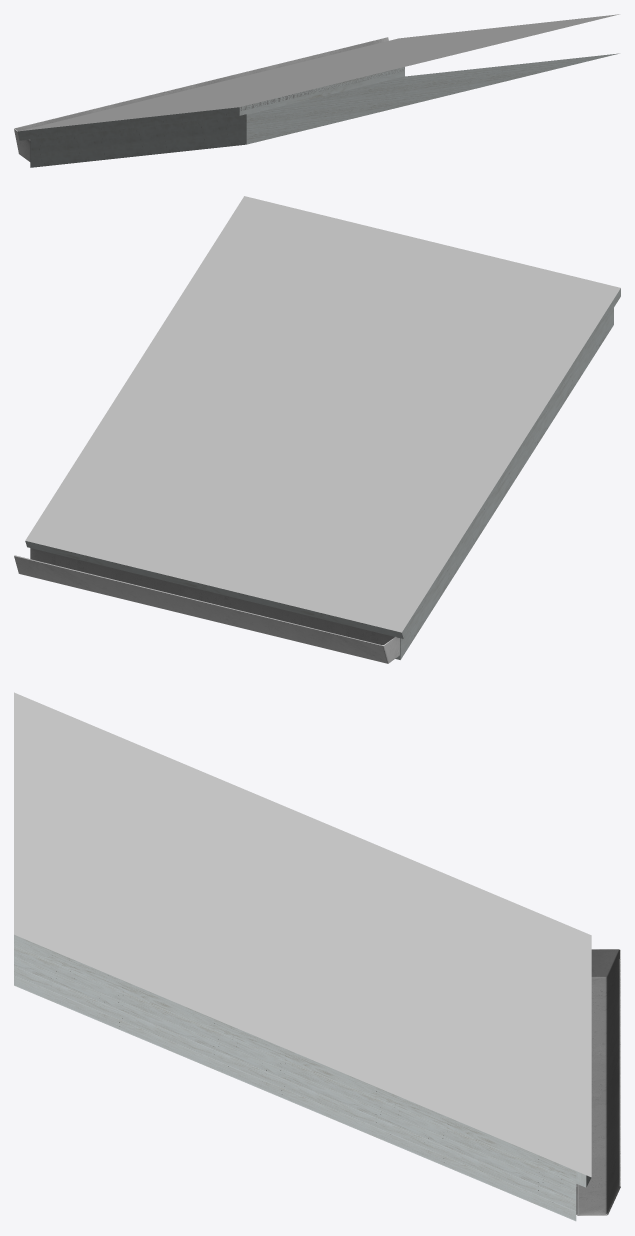
File: SM_Roof_Bottom_Edge_01.fbx
The picture shows the model from 3 angles, top to bottom: view 1: azimuth 30°, elevation 25°; view 2: azimuth 150°, elevation 25°; view 3: azimuth 270°, elevation 25°; orthographic projection. The views are drawn at different scales.
Parts seen in each view (by area): view 1: SM_Roof_Bottom_Edge_01_LOD0; view 2: SM_Roof_Bottom_Edge_01_LOD0; view 3: SM_Roof_Bottom_Edge_01_LOD0.
Boxes of the visible parts, x1,y1,x2,y2 form: SM_Roof_Bottom_Edge_01_LOD0: (14, 14, 619, 167); SM_Roof_Bottom_Edge_01_LOD0: (14, 196, 620, 663); SM_Roof_Bottom_Edge_01_LOD0: (14, 692, 620, 1221).
Bounding box in the file's own units: 183 × 194 × 101.
